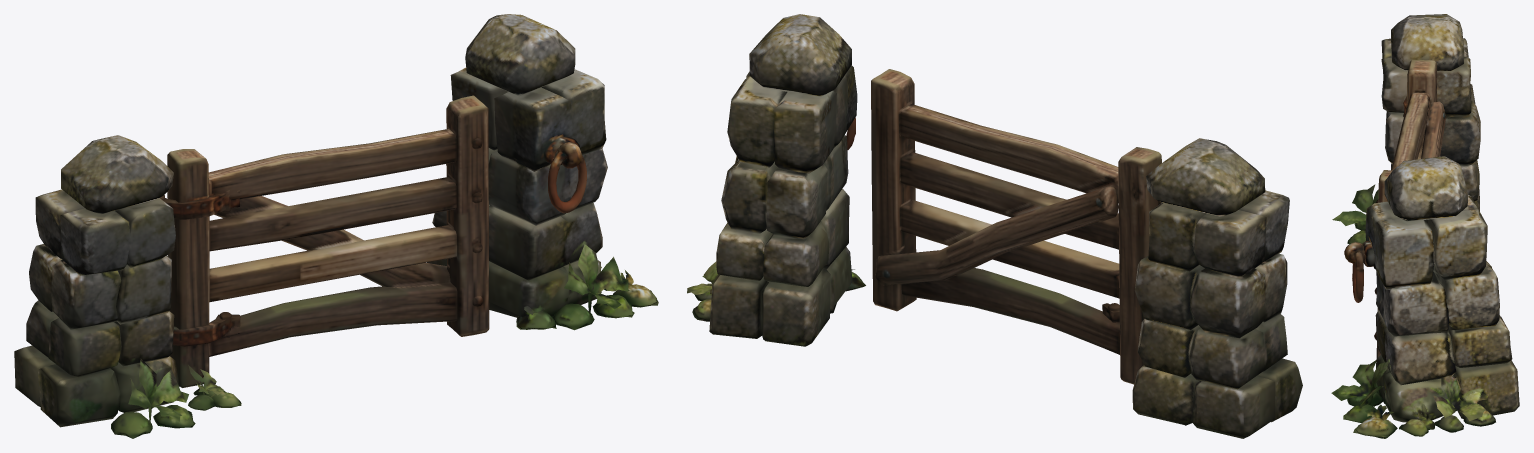
The model's file is act1_kit_v1_field_gate.glb.
3 renders of one model, left to right at view 1: azimuth 30°, elevation 25°; view 2: azimuth 150°, elevation 25°; view 3: azimuth 270°, elevation 25°, orthographic. The views are drawn at different scales.
Visible parts, largest first — view 1: act1_kit_v1_field_gate; view 2: act1_kit_v1_field_gate; view 3: act1_kit_v1_field_gate.
Part boxes in pixels (x1,y1,x2,y2): act1_kit_v1_field_gate: (14,14,658,438); act1_kit_v1_field_gate: (687,14,1302,438); act1_kit_v1_field_gate: (1331,14,1519,438).
Bounding box in the file's own units: 1 × 0.4581 × 0.3298.
1 material, 1 textured.
